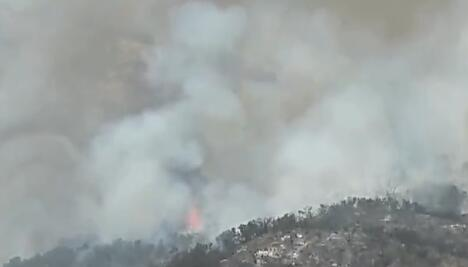yanwu: (2, 0, 468, 251)
